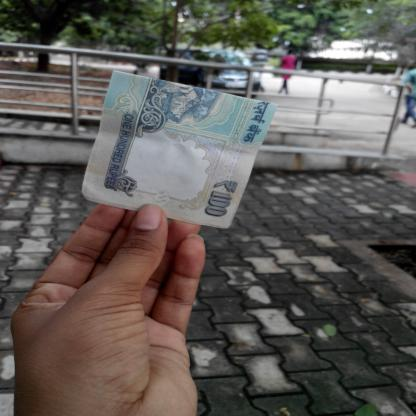Old100Back: (82, 69, 279, 229)
